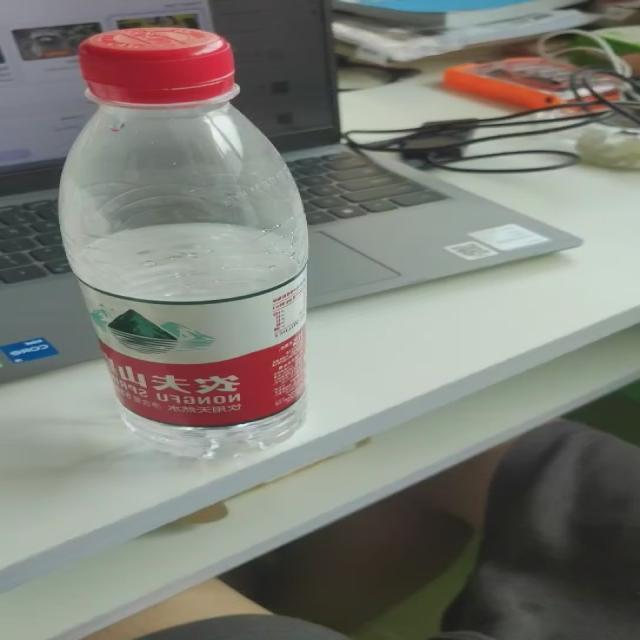plastic: (44, 19, 316, 471)
